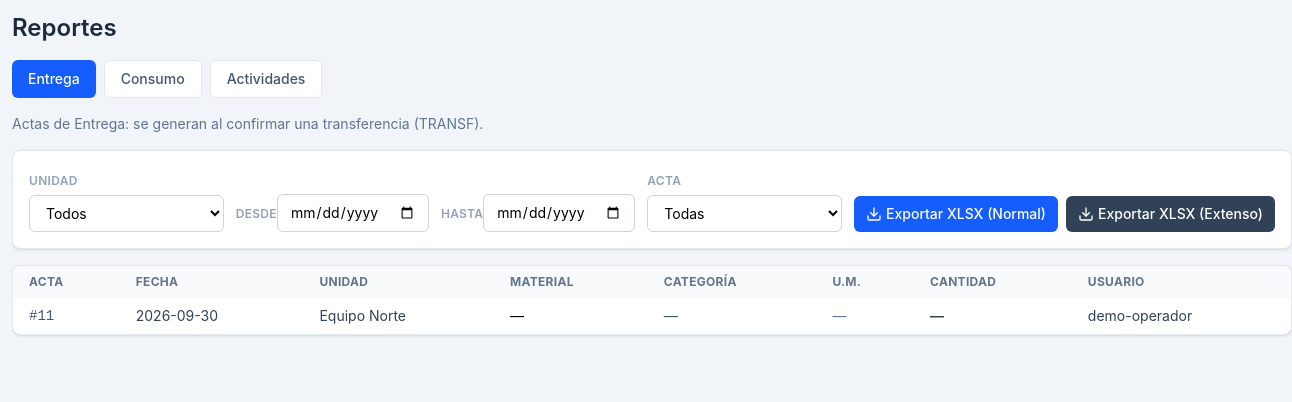
Test case: Reportes — pestaña Actividades (REQ-REP-001/012/015) › cambiar a «Consumo» y volver a «Actividades» conserva los filtros compartidos
This screenshot has width=1292, height=402.
Select "Equipo Norte" in the dropdown labelled "Unidad" at {"x": 126, "y": 214}, box [29,195,224,232]
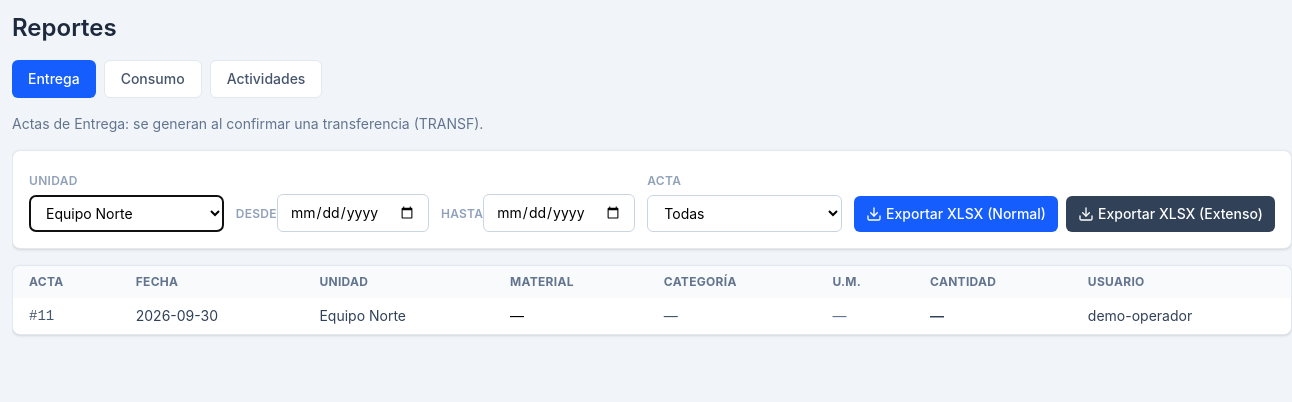
Type "2026-01-01" into the date field labelled "Desde".
click(353, 213); type("2026-01-01")  # box [277,194,429,232]
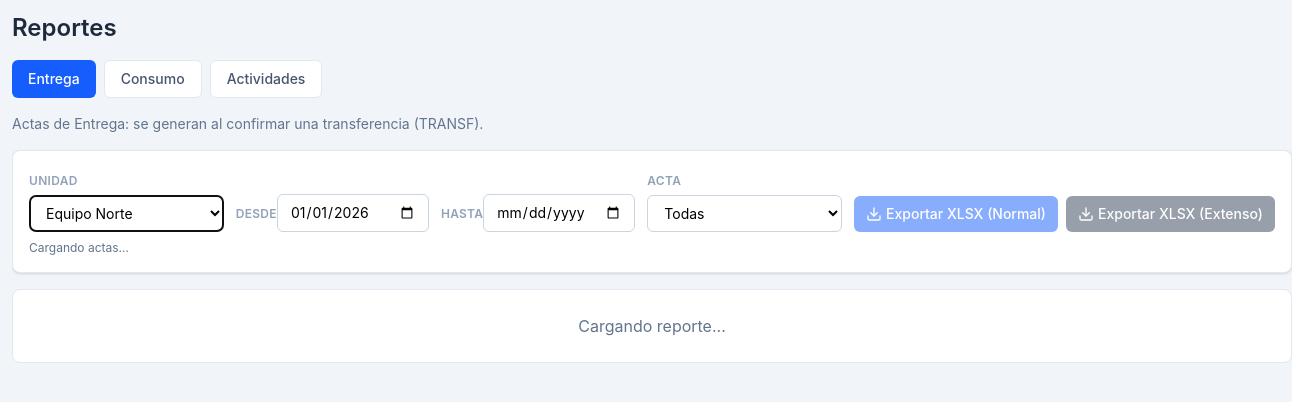
Type "2026-12-31" into the date field labelled "Hasta".
click(559, 213); type("2026-12-31")  # box [483,194,635,232]
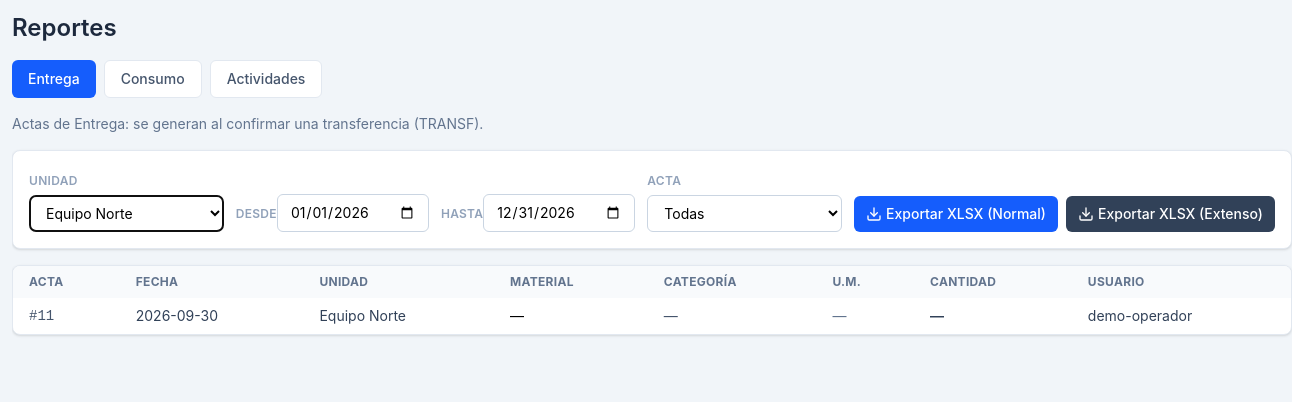
Click the tab "Actividades".
click(266, 79)  # box [210,60,322,98]
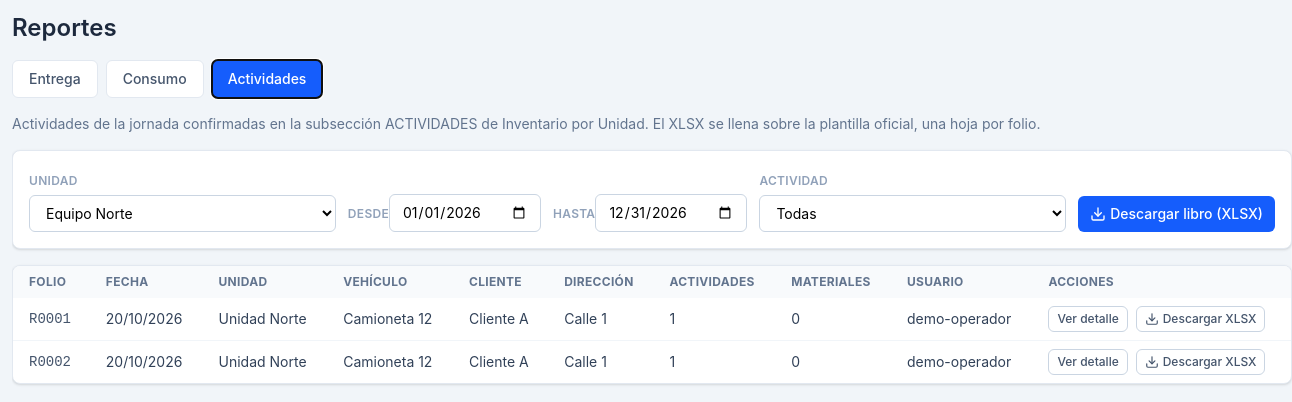
Click the tab "Consumo".
click(155, 79)  # box [106,60,204,98]
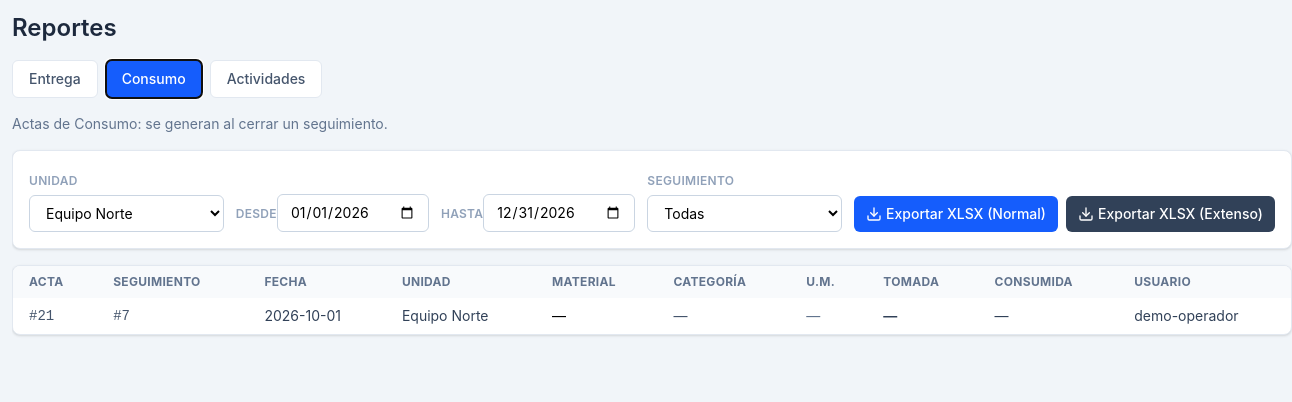
Click the tab "Actividades".
click(266, 79)  # box [210,60,322,98]
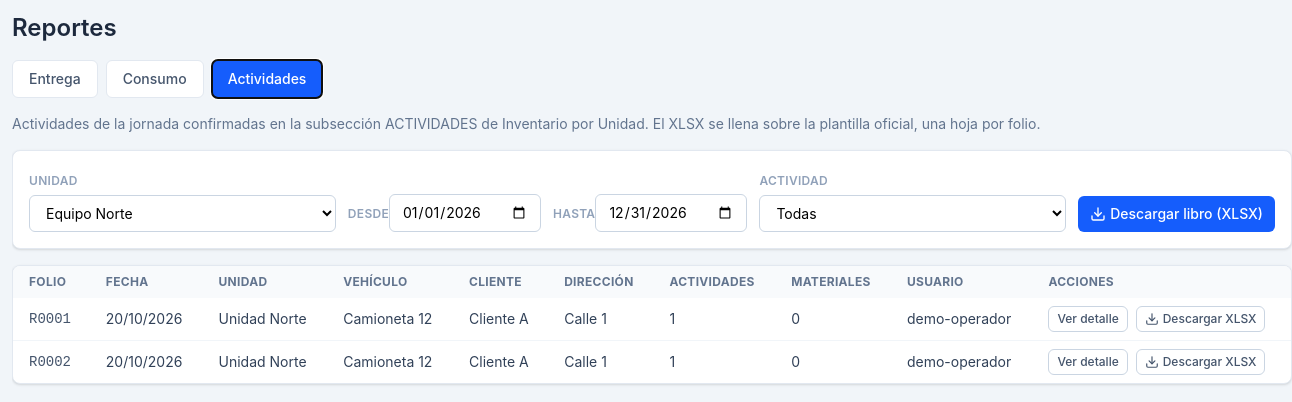
Expected: the dropdown labelled "Unidad" shows "Equipo Norte", [29,195,336,232]
Expected: the date field labelled "Desde" holds "2026-01-01", [389,194,541,232]
Expected: the date field labelled "Hasta" holds "2026-12-31", [595,194,747,232]
